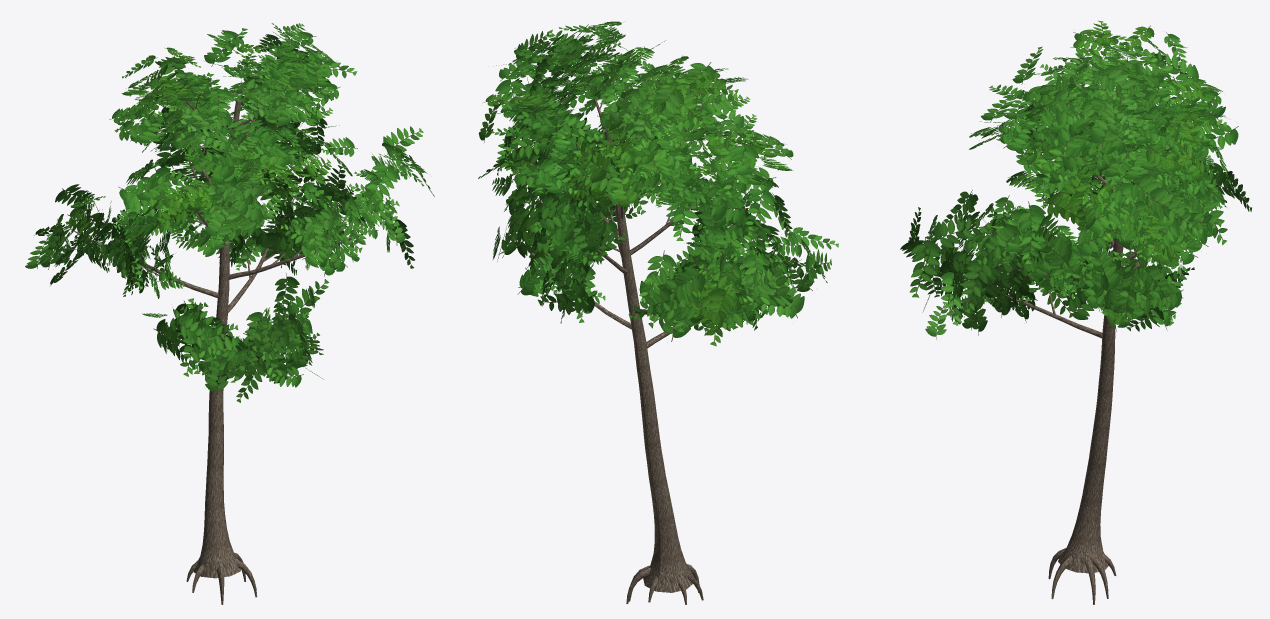
The model's file is copa_b.glb.
The picture shows the model from 3 angles, left to right: view 1: azimuth 30°, elevation 25°; view 2: azimuth 150°, elevation 25°; view 3: azimuth 270°, elevation 25°; orthographic projection. The views are drawn at different scales.
Visible parts, largest first — view 1: copa_b; view 2: copa_b; view 3: copa_b.
Boxes of the visible parts, x1,y1,x2,y2 form: copa_b: [25, 23, 434, 604]; copa_b: [478, 21, 838, 604]; copa_b: [900, 20, 1251, 604].
Size of the model in its own units: 7.39 by 10.47 by 6.29.
Materials: 2 (2 with a texture image).
